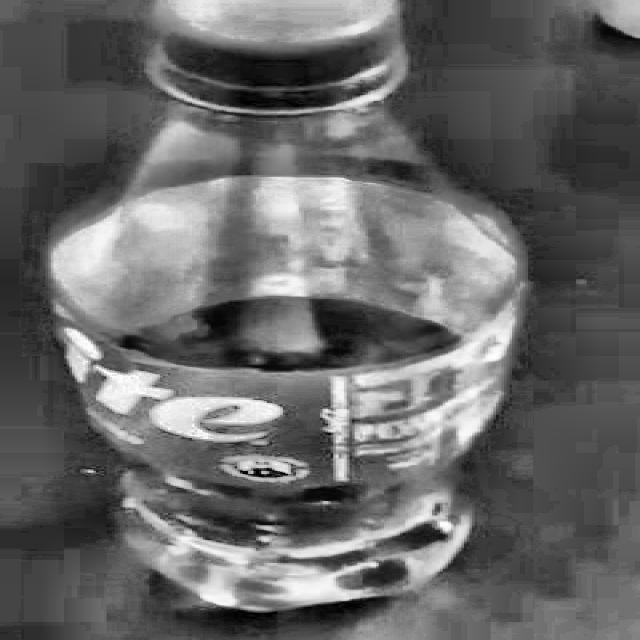bottle: (43, 0, 531, 620)
